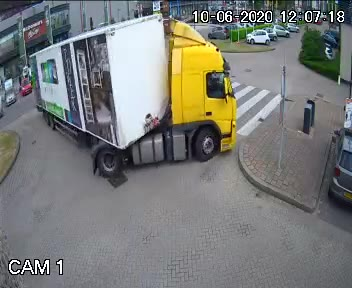car: (18, 16, 253, 176)
